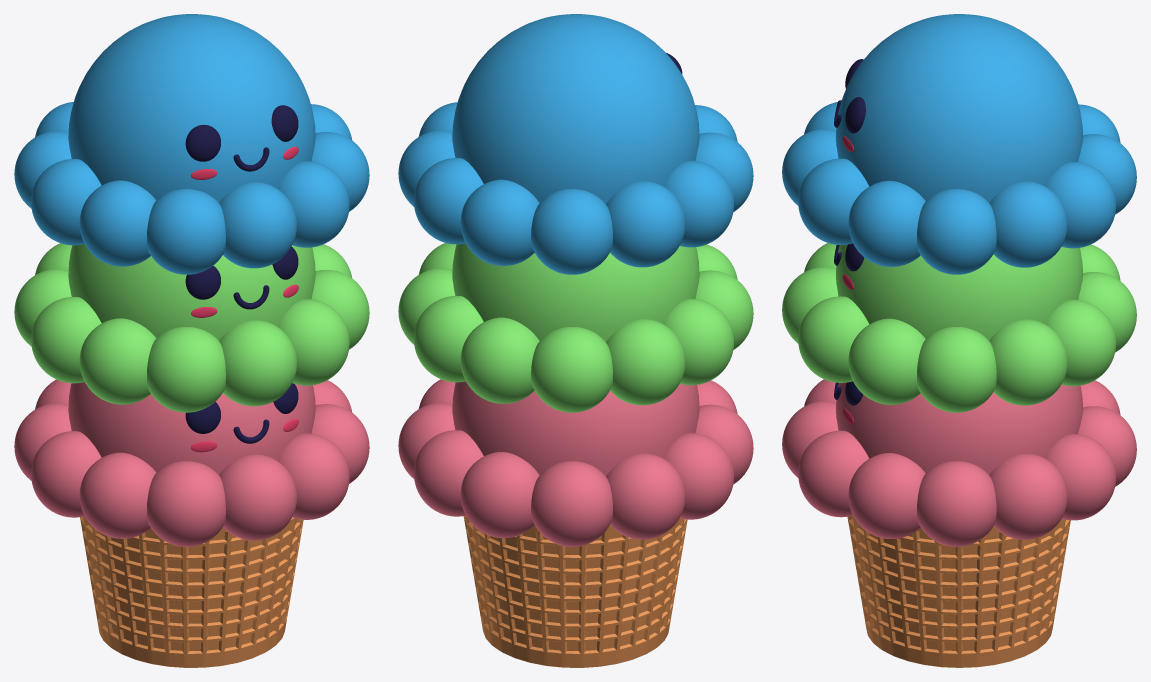
Rendered from this_model_is_cute_and_kawaii.glb.
3 views of the same model, side by side, from view 1: azimuth 30°, elevation 25°; view 2: azimuth 150°, elevation 25°; view 3: azimuth 270°, elevation 25° (orthographic).
Parts seen in each view (by area): view 1: Helado.001_Azul_0, Helado.002_Verde_0, Helado_Rosado_0, Galleta_Helado_0, Ojos.001_Ojos_0, Ojos.002_Ojos_0, Ojos_Ojos_0; view 2: Helado.001_Azul_0, Helado.002_Verde_0, Helado_Rosado_0, Galleta_Helado_0; view 3: Helado.001_Azul_0, Helado.002_Verde_0, Helado_Rosado_0, Galleta_Helado_0, Ojos.001_Ojos_0.
Part boxes in pixels (box(x1,y1,x2,y2)): Helado.001_Azul_0: box(14, 14, 369, 274); Helado.002_Verde_0: box(14, 243, 369, 412); Helado_Rosado_0: box(14, 379, 369, 546); Galleta_Helado_0: box(80, 516, 303, 667); Ojos.001_Ojos_0: box(185, 105, 298, 161); Ojos.002_Ojos_0: box(185, 246, 298, 299); Ojos_Ojos_0: box(185, 383, 298, 433); Helado.001_Azul_0: box(398, 14, 753, 274); Helado.002_Verde_0: box(398, 243, 753, 412); Helado_Rosado_0: box(398, 379, 753, 546); Galleta_Helado_0: box(463, 515, 687, 667); Helado.001_Azul_0: box(782, 14, 1136, 274); Helado.002_Verde_0: box(782, 243, 1136, 412); Helado_Rosado_0: box(782, 379, 1136, 546); Galleta_Helado_0: box(847, 515, 1070, 667); Ojos.001_Ojos_0: box(845, 59, 865, 133).
Bounding box in the file's own units: 1.33 × 2.5 × 1.33.
